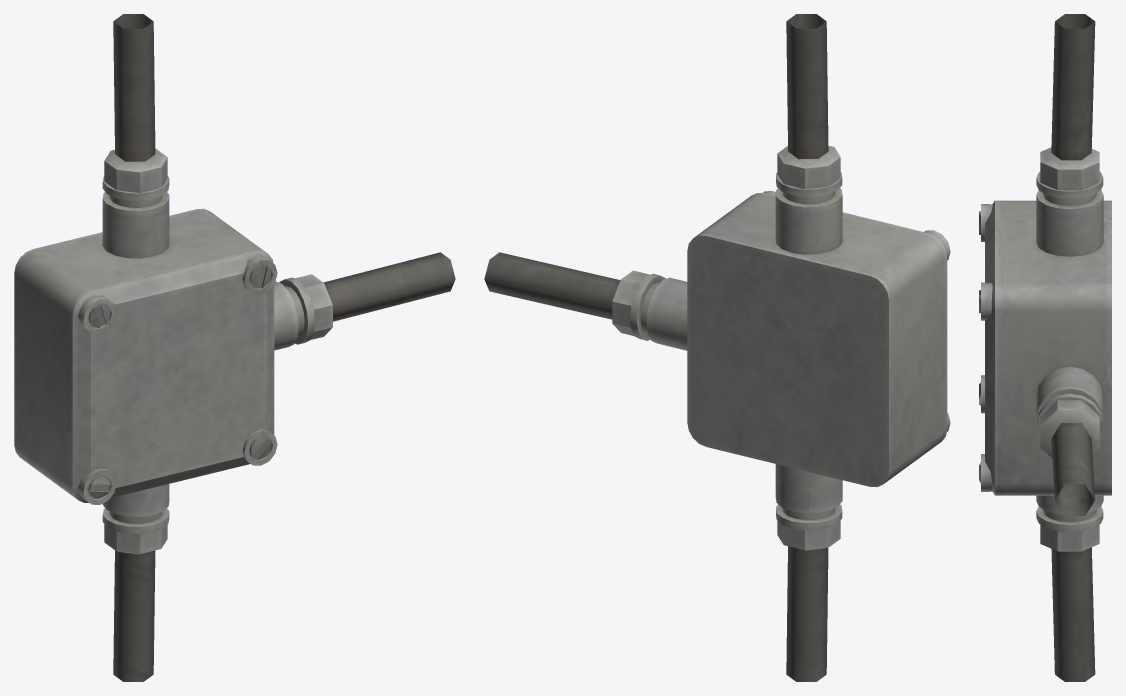
File: cable_box_3way.gltf
3 renders of one model, left to right at view 1: azimuth 30°, elevation 25°; view 2: azimuth 150°, elevation 25°; view 3: azimuth 270°, elevation 25°, orthographic.
Parts seen in each view (by area): view 1: cable_box_3way; view 2: cable_box_3way; view 3: cable_box_3way.
Part boxes in pixels (<box>): cable_box_3way: <box>14,14,455,681</box>; cable_box_3way: <box>484,14,950,681</box>; cable_box_3way: <box>979,14,1111,681</box>.
Bounding box in the file's own units: 0.1323 × 0.2 × 0.0369.
1 material, 1 textured.
